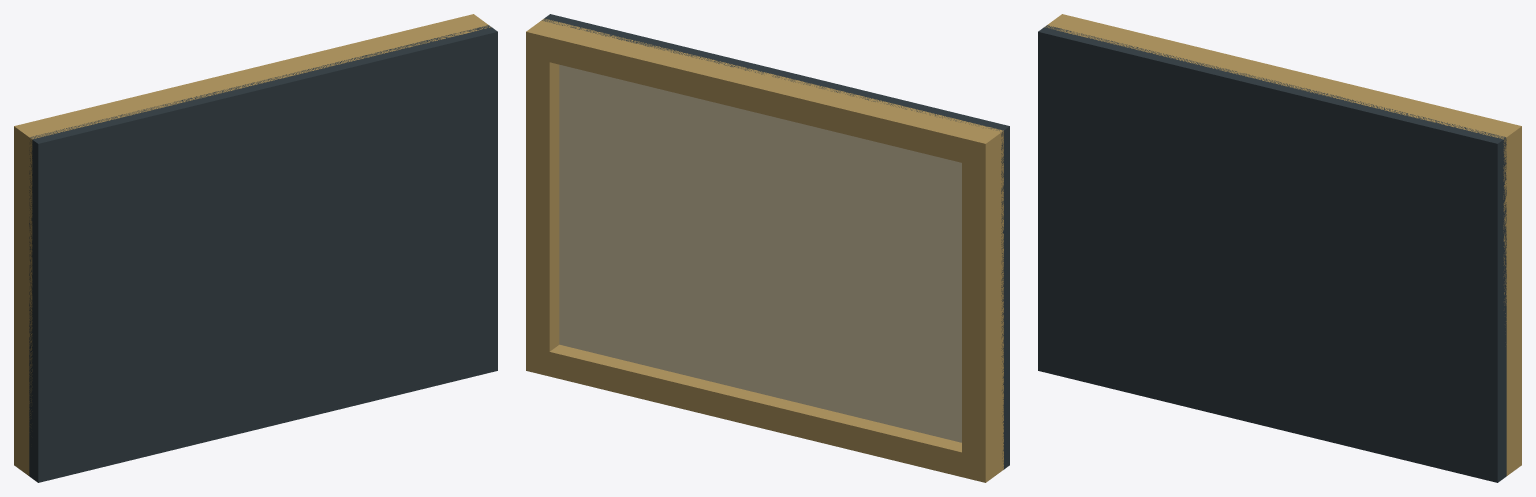
Rendered from VIC_E04_FRAME_LANDSCAPE_Roblox.fbx.
3 views of the same model, side by side, from view 1: azimuth 30°, elevation 25°; view 2: azimuth 150°, elevation 25°; view 3: azimuth 330°, elevation 25° (orthographic).
Parts seen in each view (by area): view 1: VIC_E04_FRAME_LANDSCAPE__Charcoal, VIC_E04_FRAME_LANDSCAPE__Brass; view 2: VIC_E04_FRAME_LANDSCAPE__Canvas__Paper, VIC_E04_FRAME_LANDSCAPE__Brass, VIC_E04_FRAME_LANDSCAPE__Charcoal; view 3: VIC_E04_FRAME_LANDSCAPE__Charcoal, VIC_E04_FRAME_LANDSCAPE__Brass.
Part boxes in pixels (x1,y1,x2,y2): VIC_E04_FRAME_LANDSCAPE__Charcoal: (29,25,497,482); VIC_E04_FRAME_LANDSCAPE__Brass: (14,14,491,475); VIC_E04_FRAME_LANDSCAPE__Canvas__Paper: (559,64,961,442); VIC_E04_FRAME_LANDSCAPE__Brass: (526,18,1003,482); VIC_E04_FRAME_LANDSCAPE__Charcoal: (541,14,1009,469); VIC_E04_FRAME_LANDSCAPE__Charcoal: (1038,25,1506,482); VIC_E04_FRAME_LANDSCAPE__Brass: (1044,14,1521,475).
Size of the model in its own units: 3.5 by 2.47 by 0.32.
